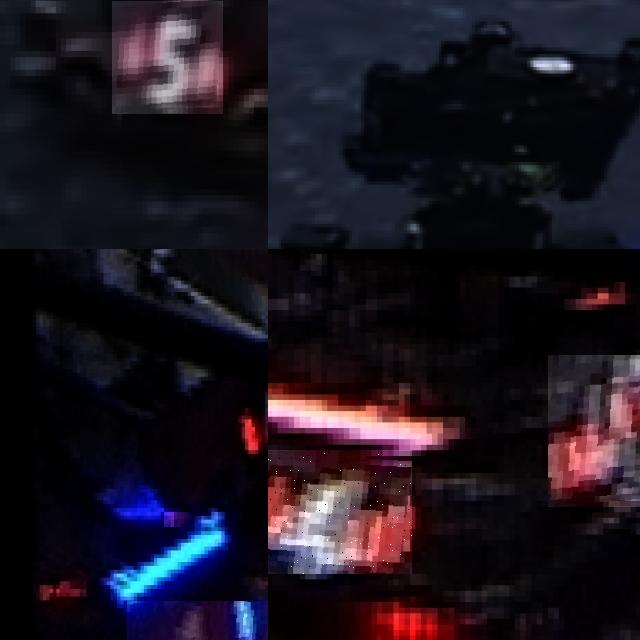B1: (127, 600, 268, 640)
R4: (268, 450, 412, 573), (548, 355, 640, 506)
R5: (112, 1, 223, 114)
